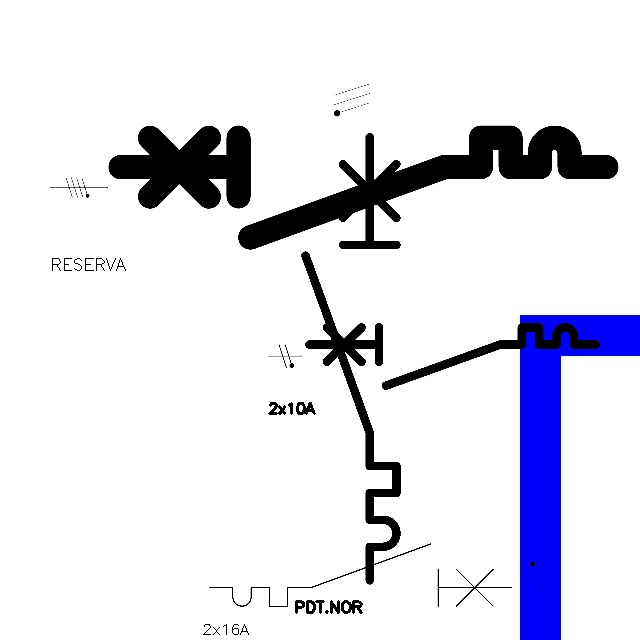interruptor_termomagnetico: (107, 125, 619, 250), (294, 125, 408, 591), (202, 536, 519, 614), (302, 320, 602, 393)
